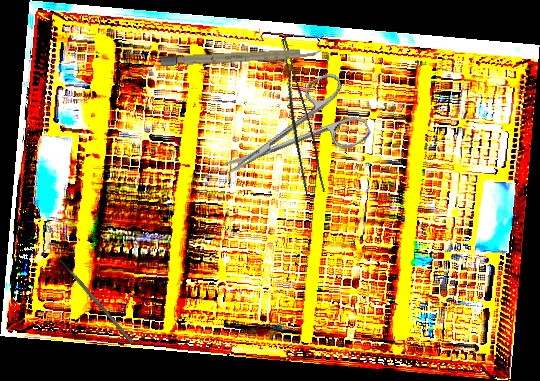Iris Scissors: (206, 67, 374, 202)
Pusher: (52, 251, 135, 345)
Scalpel Handle: (159, 47, 322, 67)
Tissue Forceps: (263, 37, 330, 198)
